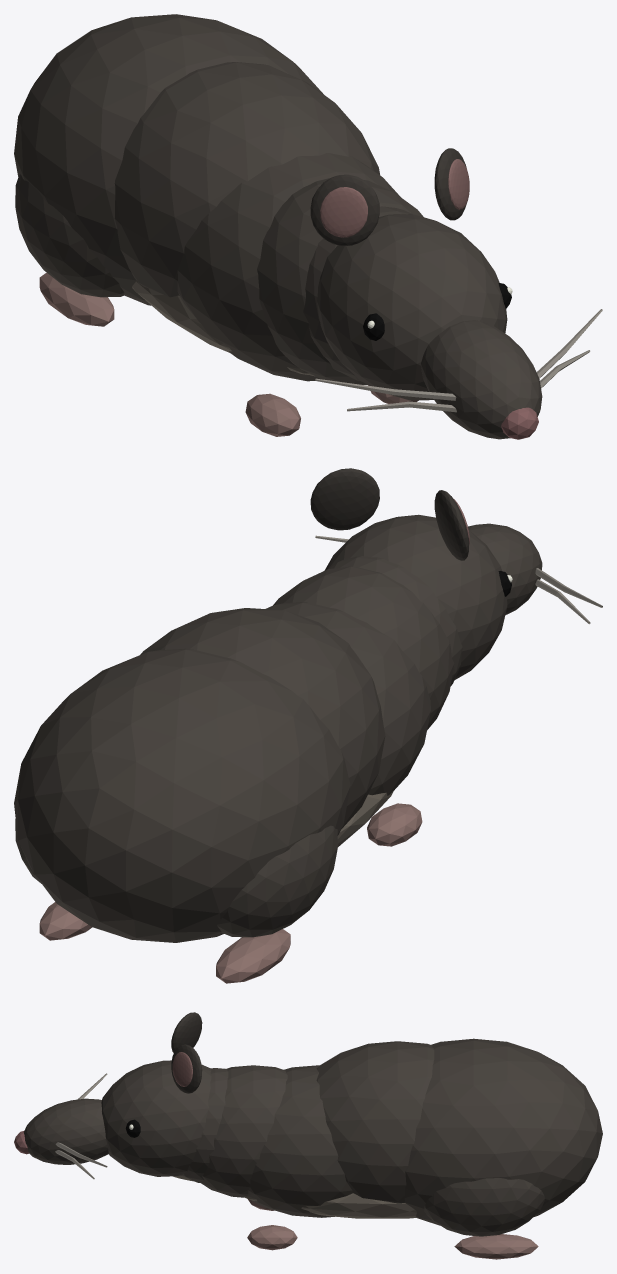
File: MossBody.obj
3 renders of one model, top to bottom at view 1: azimuth 30°, elevation 25°; view 2: azimuth 150°, elevation 25°; view 3: azimuth 270°, elevation 25°, orthographic. The views are drawn at different scales.
Parts seen in each view (by area): view 1: Fur, Paws, Ear, EarInner, Whiskers, Belly, Nose, Eyes; view 2: Fur, Paws, Ear, Whiskers, Belly; view 3: Fur, Paws, Belly, Ear, EarInner, Whiskers.
Boxes of the visible parts, x1=… form: Fur: x1=14, y1=14, x2=542, y2=439; Paws: x1=39, y1=272, x2=418, y2=436; Ear: x1=310, y1=148, x2=466, y2=246; EarInner: x1=320, y1=159, x2=469, y2=237; Whiskers: x1=315, y1=309, x2=602, y2=412; Belly: x1=132, y1=281, x2=314, y2=376; Nose: x1=501, y1=407, x2=538, y2=439; Eyes: x1=363, y1=283, x2=511, y2=340; Fur: x1=14, y1=514, x2=542, y2=942; Paws: x1=39, y1=803, x2=422, y2=983; Ear: x1=310, y1=468, x2=468, y2=560; Whiskers: x1=315, y1=535, x2=602, y2=624; Belly: x1=337, y1=790, x2=393, y2=847; Fur: x1=24, y1=1038, x2=602, y2=1236; Paws: x1=247, y1=1199, x2=538, y2=1259; Belly: x1=173, y1=1175, x2=416, y2=1218; Ear: x1=171, y1=1012, x2=202, y2=1093; EarInner: x1=172, y1=1052, x2=192, y2=1086; Whiskers: x1=55, y1=1073, x2=107, y2=1179.
Size of the model in its own units: 0.5221 by 0.5201 by 1.4.
